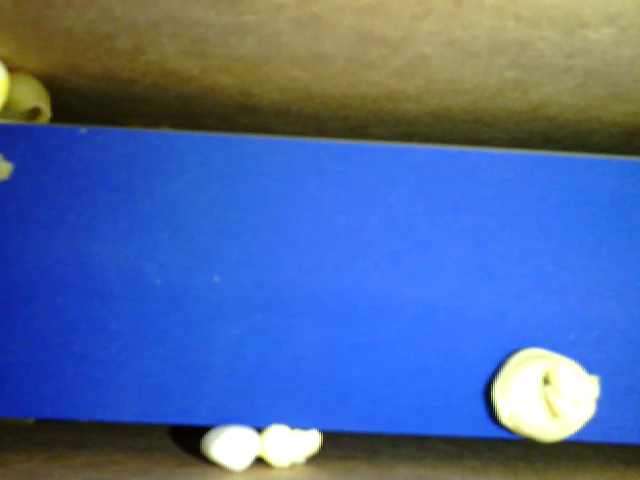shell: (2, 64, 53, 128)
tortellini: (488, 345, 601, 443)
